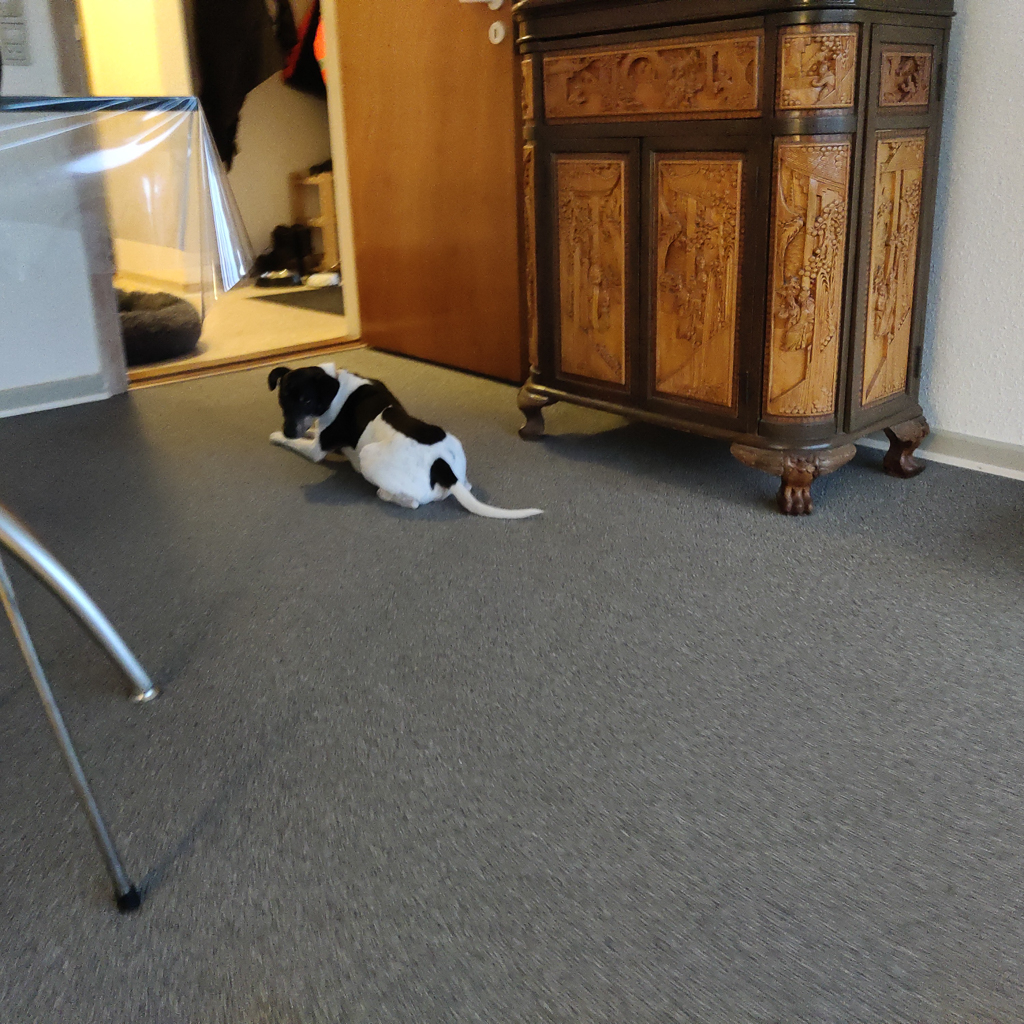Dog: (245, 353, 561, 534)
